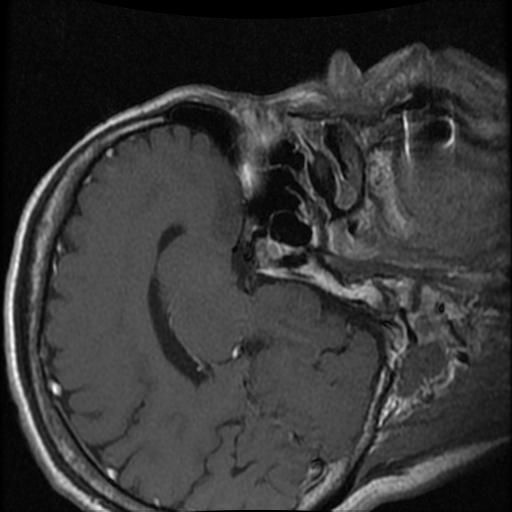pituitary tumour: (253, 239, 285, 268)
